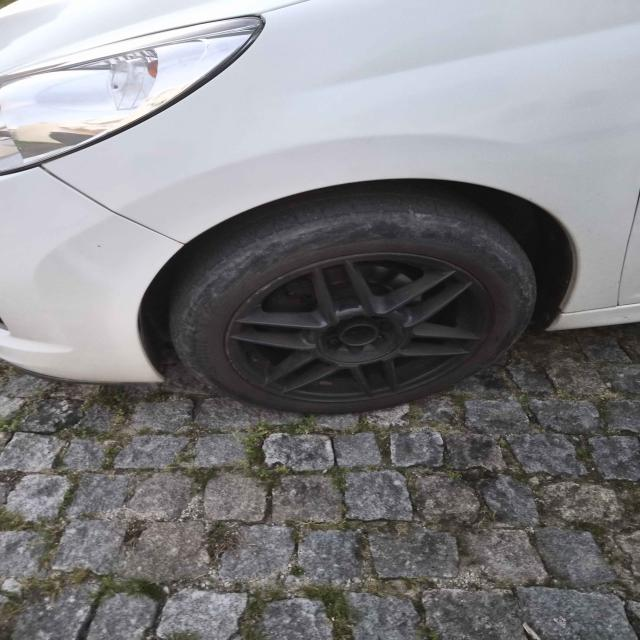jante: (223, 250, 498, 404)
parafuso: (328, 338, 340, 346), (347, 316, 358, 324), (374, 334, 384, 342), (326, 326, 335, 334), (380, 322, 389, 330), (351, 345, 361, 352)
roda: (166, 180, 540, 415)
